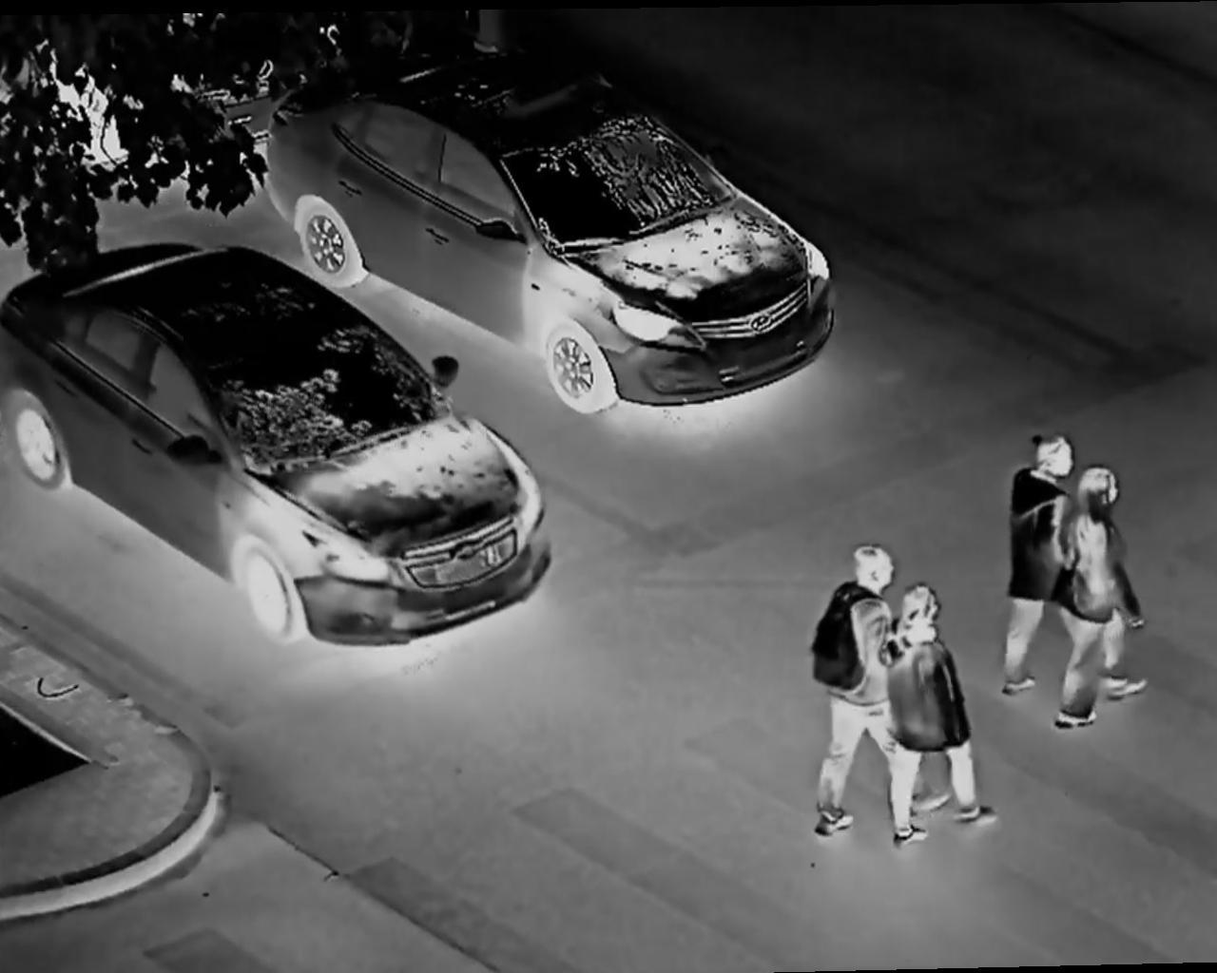person: (884, 582, 1007, 854), (804, 531, 909, 844), (1061, 464, 1157, 731), (1006, 435, 1075, 698)
